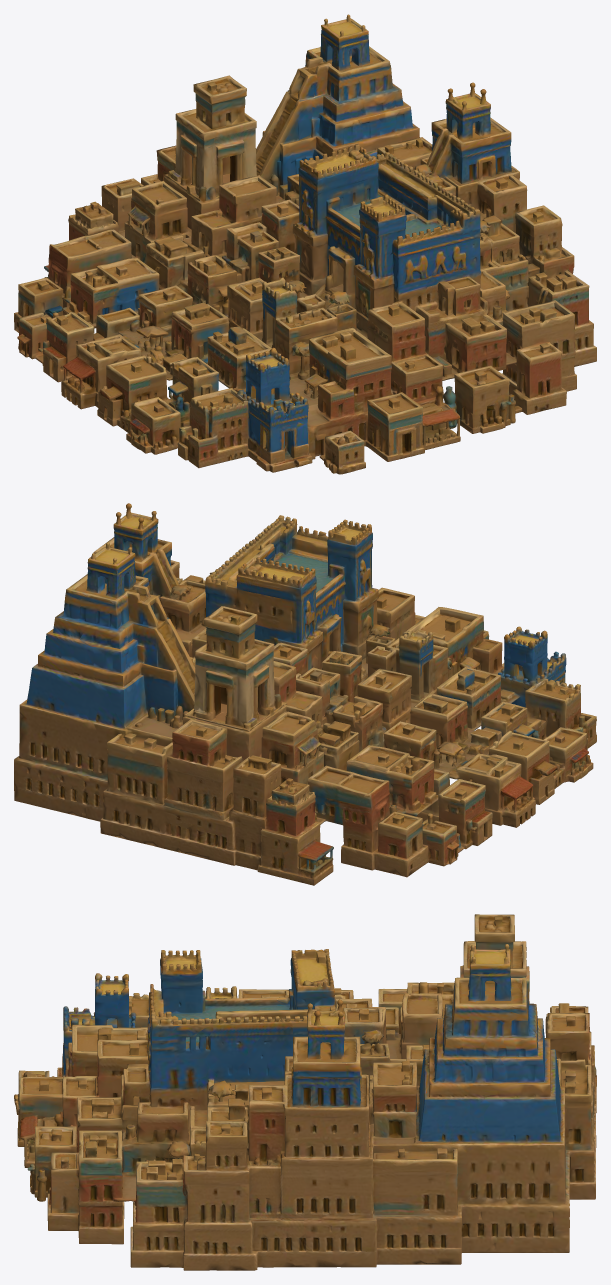
Rendered from Ancient City (Middle Eastern).fbx.
3 views of the same model, one above another, from view 1: azimuth 30°, elevation 25°; view 2: azimuth 150°, elevation 25°; view 3: azimuth 270°, elevation 25° (orthographic). The views are drawn at different scales.
Parts seen in each view (by area): view 1: tripo_node_8cfc7bab; view 2: tripo_node_8cfc7bab; view 3: tripo_node_8cfc7bab.
Boxes of the visible parts, <box> form: tripo_node_8cfc7bab: <box>14,14,596,474</box>; tripo_node_8cfc7bab: <box>14,503,596,885</box>; tripo_node_8cfc7bab: <box>14,914,596,1270</box>.
Bounding box in the file's own units: 0.9704 × 0.5099 × 1.
